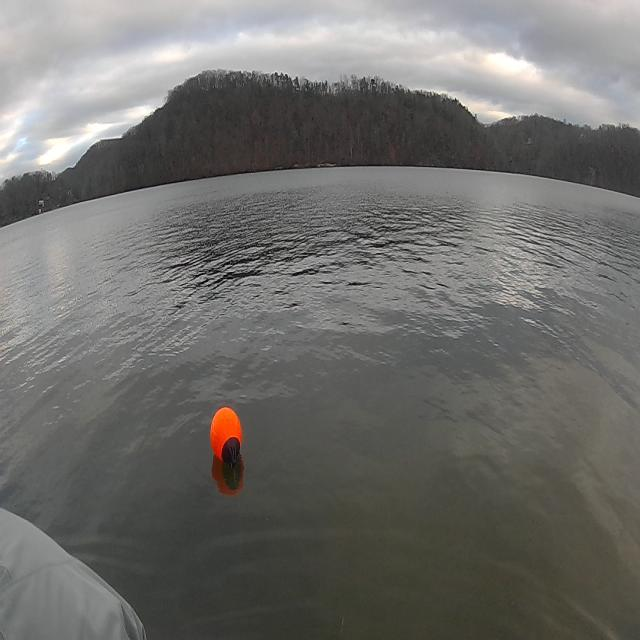Buoy: (208, 399, 248, 480)
